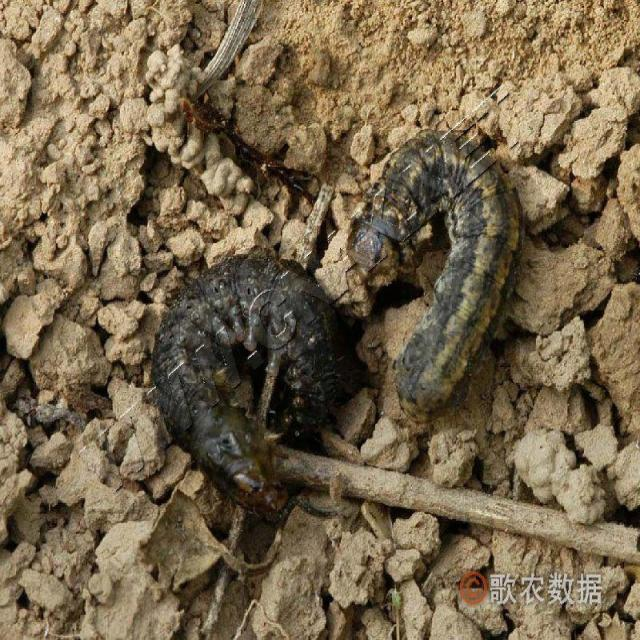black cutworm: (346, 115, 529, 417), (146, 245, 339, 524)
